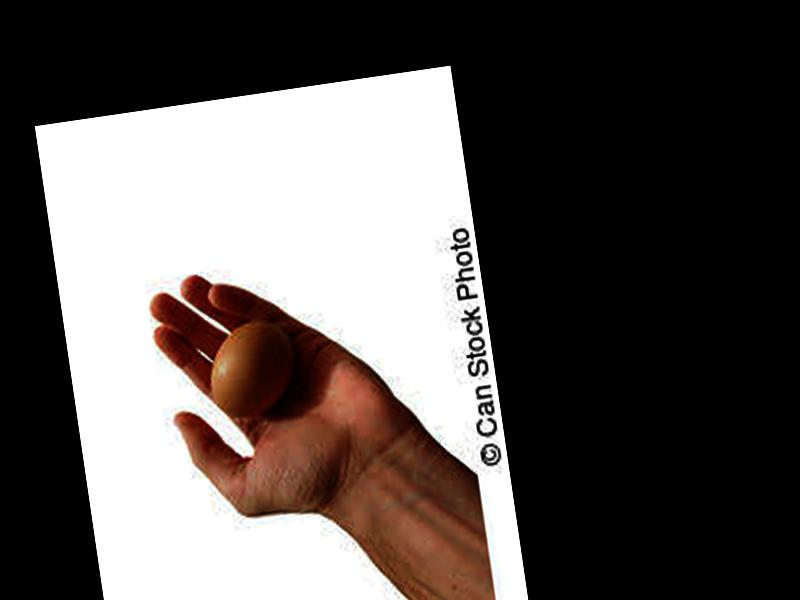Eggs: (205, 315, 300, 417)
